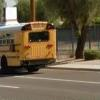Bus: (4, 17, 62, 77)
